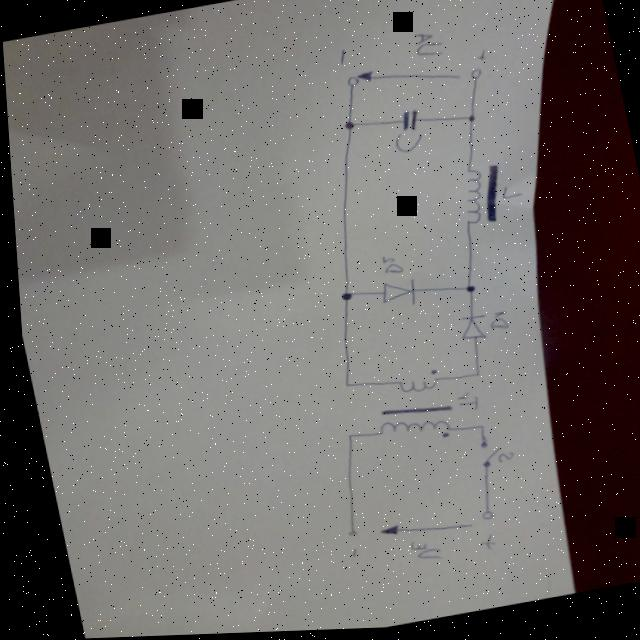capacitor: (395, 111, 421, 138)
diode: (375, 280, 420, 313), (452, 316, 487, 347)
inductor: (447, 167, 509, 234)
junction: (339, 120, 358, 137), (333, 292, 352, 306), (459, 286, 475, 300), (463, 116, 477, 129), (338, 434, 350, 445), (338, 383, 348, 393), (466, 374, 477, 383), (471, 428, 481, 435)
switch: (470, 442, 498, 474)
terminal: (472, 510, 491, 528), (466, 72, 483, 86), (344, 78, 359, 92), (338, 531, 352, 541)
text: (410, 33, 446, 64), (400, 540, 439, 568), (390, 132, 424, 159), (376, 256, 402, 281), (449, 394, 475, 418), (482, 314, 507, 337), (496, 188, 523, 205), (488, 452, 510, 471)
transformer: (363, 370, 455, 454)
